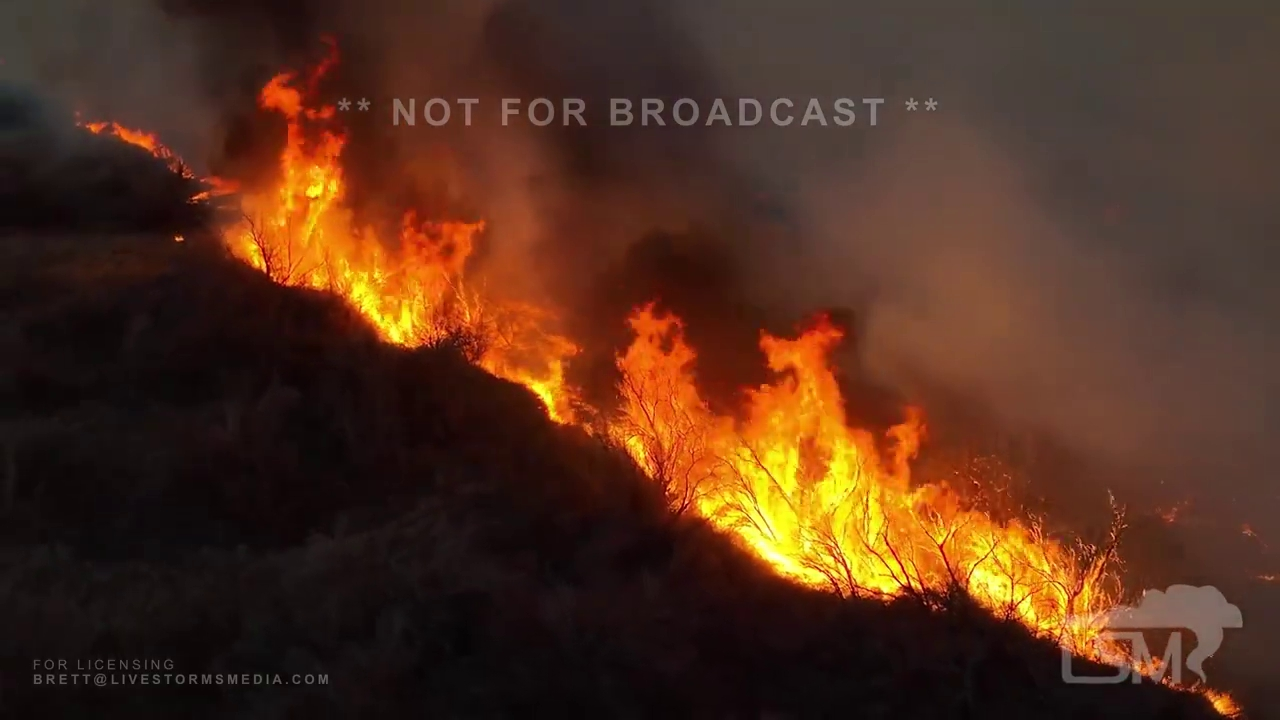forest_fire: (590, 303, 1130, 661), (223, 47, 582, 421), (80, 122, 188, 170), (1195, 687, 1238, 715), (208, 178, 232, 191), (1135, 667, 1147, 670), (592, 413, 593, 416)
